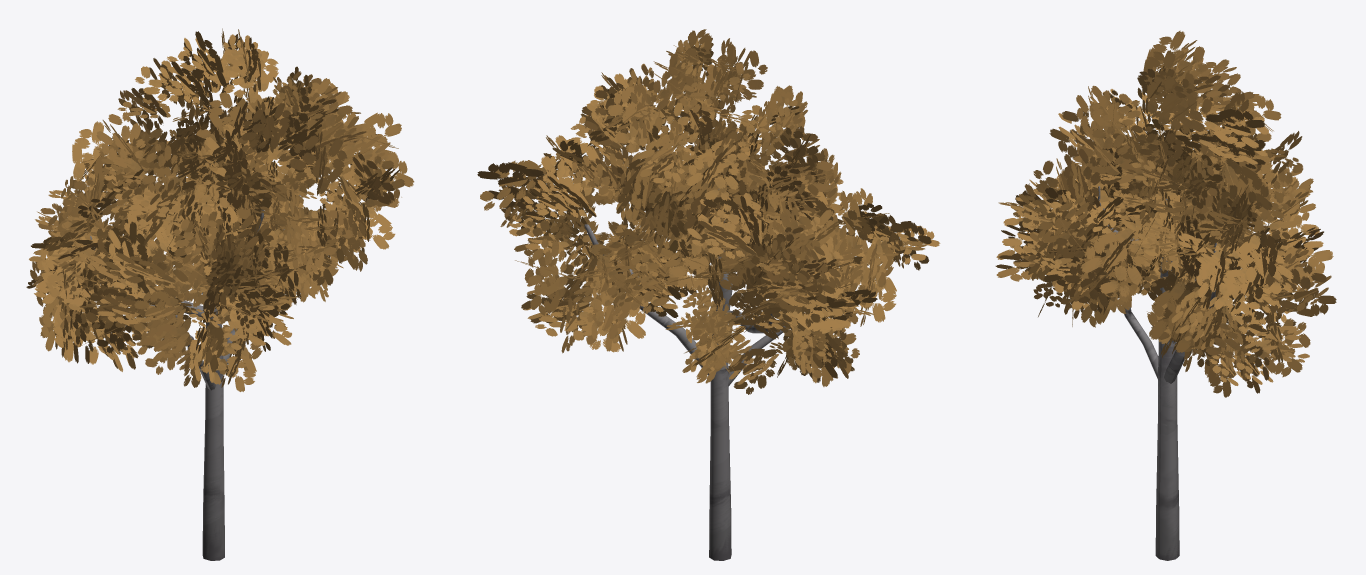
Rendered from stylizedAutumn.glb.
The picture shows the model from 3 angles, left to right: view 1: azimuth 30°, elevation 25°; view 2: azimuth 150°, elevation 25°; view 3: azimuth 270°, elevation 25°; orthographic projection.
Parts seen in each view (by area): view 1: treeAutumn; view 2: treeAutumn; view 3: treeAutumn.
Boxes of the visible parts, x1,y1,x2,y2 form: treeAutumn: [26, 28, 414, 560]; treeAutumn: [477, 29, 940, 560]; treeAutumn: [995, 30, 1336, 560].
Bounding box in the file's own units: 4.64 × 6.17 × 3.82.
2 materials, 2 textured.
